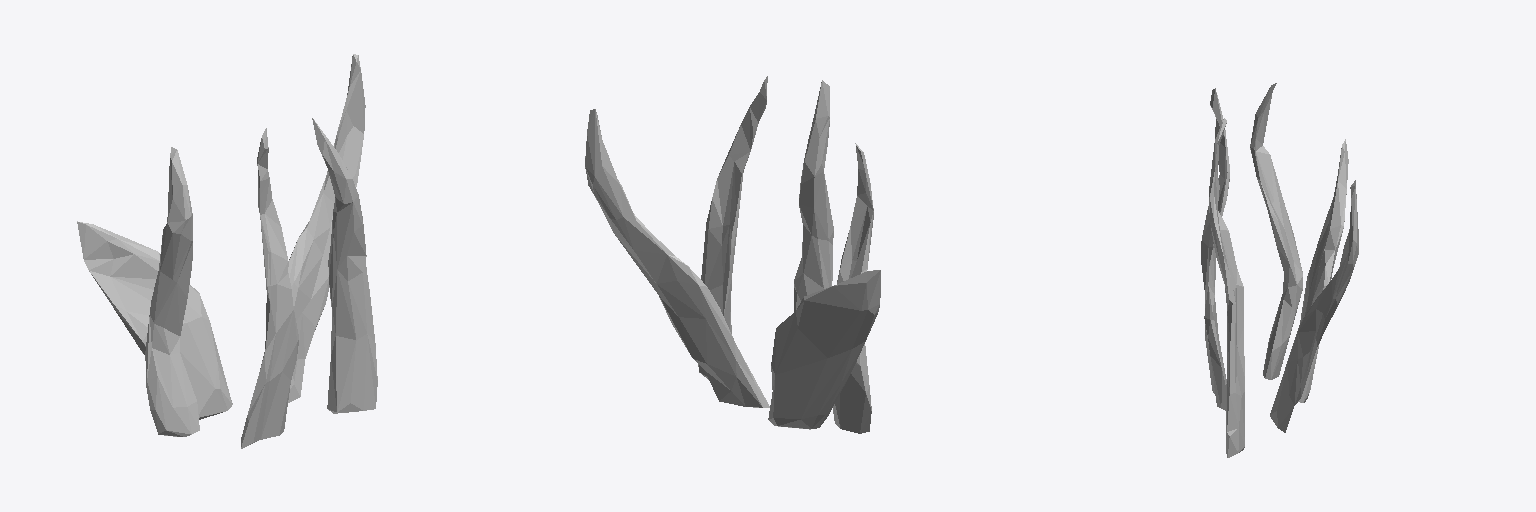
File: Algae_Blue.obj
The picture shows the model from 3 angles: view 1: azimuth 30°, elevation 25°; view 2: azimuth 150°, elevation 25°; view 3: azimuth 270°, elevation 25°; orthographic projection.
Parts seen in each view (by area): view 1: pasted__pasted__pasted__pCube14; view 2: pasted__pasted__pasted__pCube14; view 3: pasted__pasted__pasted__pCube14.
Part boxes in pixels (x1,y1,x2,y2): pasted__pasted__pasted__pCube14: (77, 54, 377, 448); pasted__pasted__pasted__pCube14: (585, 76, 880, 433); pasted__pasted__pasted__pCube14: (1201, 83, 1358, 457).
Size of the model in its own units: 3.41 by 3.52 by 1.61.